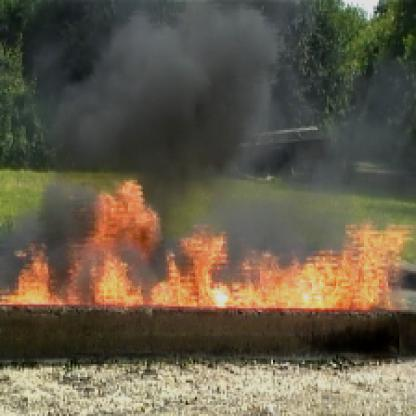Fire: (9, 174, 400, 316)
Smoke: (39, 2, 245, 163)
